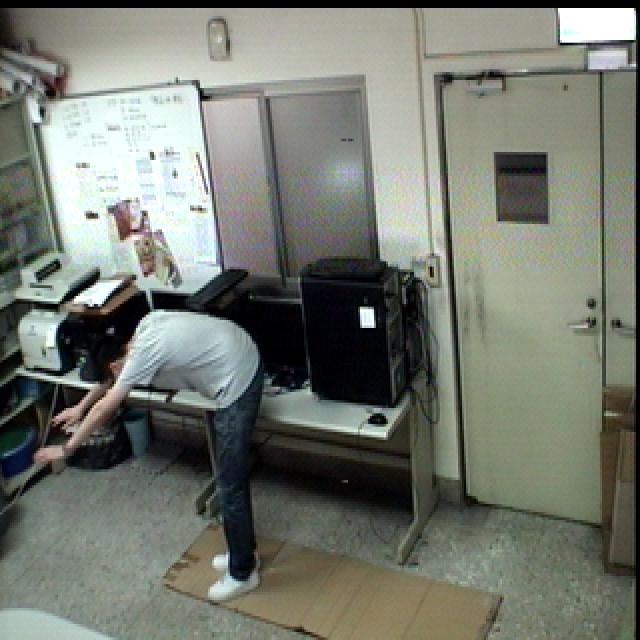bend: (32, 303, 270, 611)
